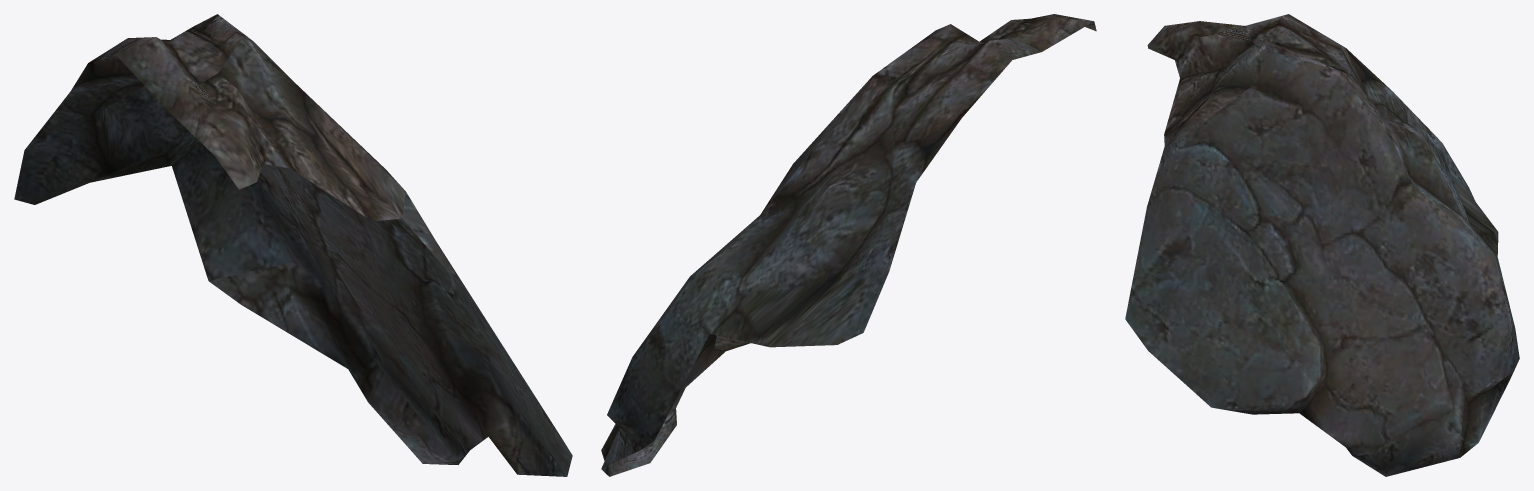
Rendered from S_Rock_Yellow036_H22.FBX.
3 renders of one model, left to right at view 1: azimuth 30°, elevation 25°; view 2: azimuth 150°, elevation 25°; view 3: azimuth 270°, elevation 25°, orthographic. The views are drawn at different scales.
Visible parts, largest first — view 1: S_Rock_Yellow036_H22; view 2: S_Rock_Yellow036_H22; view 3: S_Rock_Yellow036_H22.
Part boxes in pixels (x1,y1,x2,y2): S_Rock_Yellow036_H22: (14, 14, 572, 476); S_Rock_Yellow036_H22: (601, 14, 1096, 476); S_Rock_Yellow036_H22: (1125, 14, 1519, 476).
Bounding box in the file's own units: 687 × 919 × 898.
Materials: 1 (1 with a texture image).
